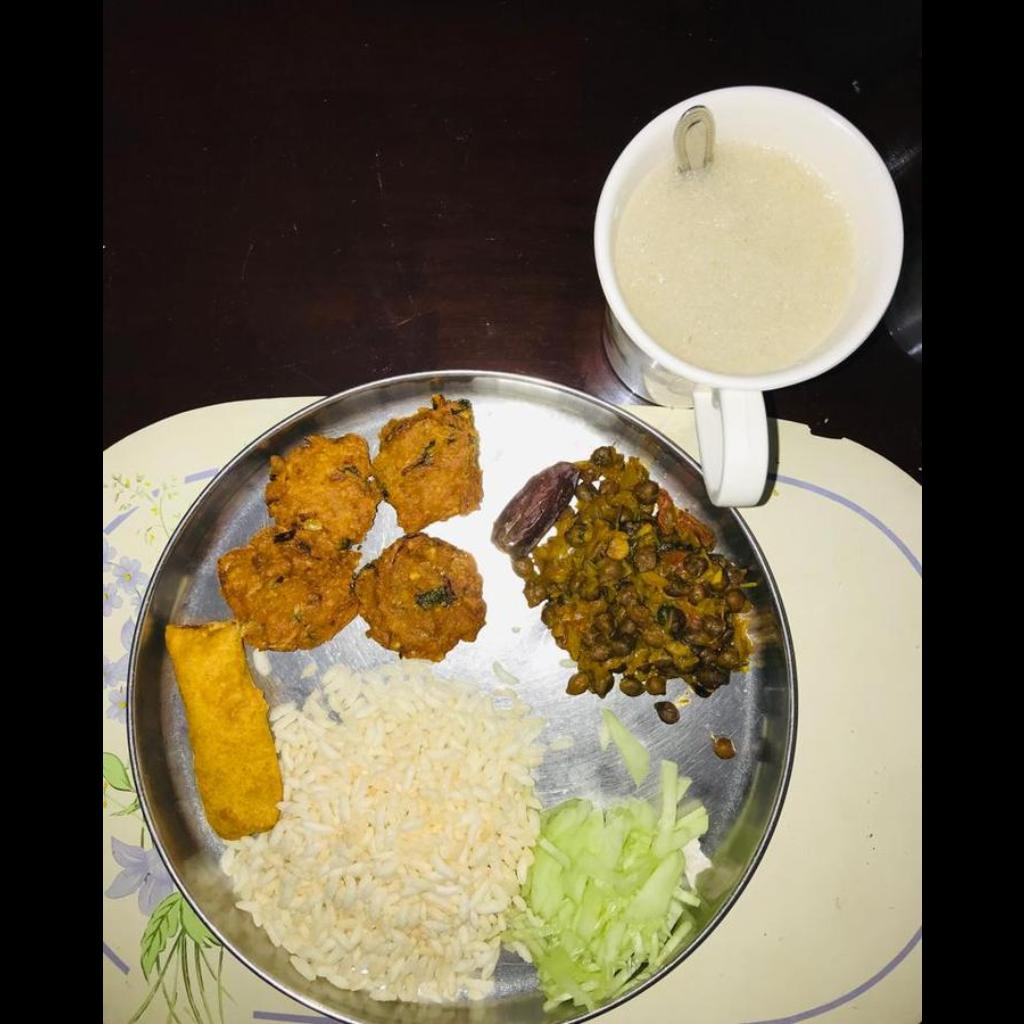beguni: (165, 628, 277, 833)
chola: (518, 453, 742, 703)
dates: (486, 456, 572, 551)
juice: (614, 149, 860, 368)
peyaju: (219, 396, 486, 663)
puffed-rice: (227, 673, 533, 1006)
salad: (530, 786, 713, 990)
